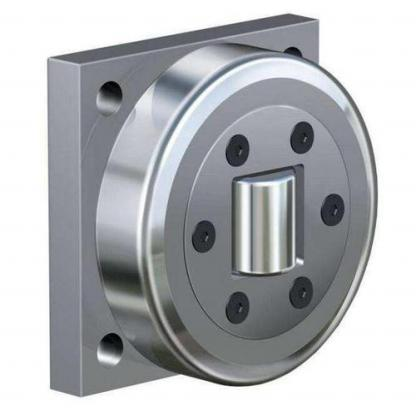FOD: (95, 41, 382, 398)
